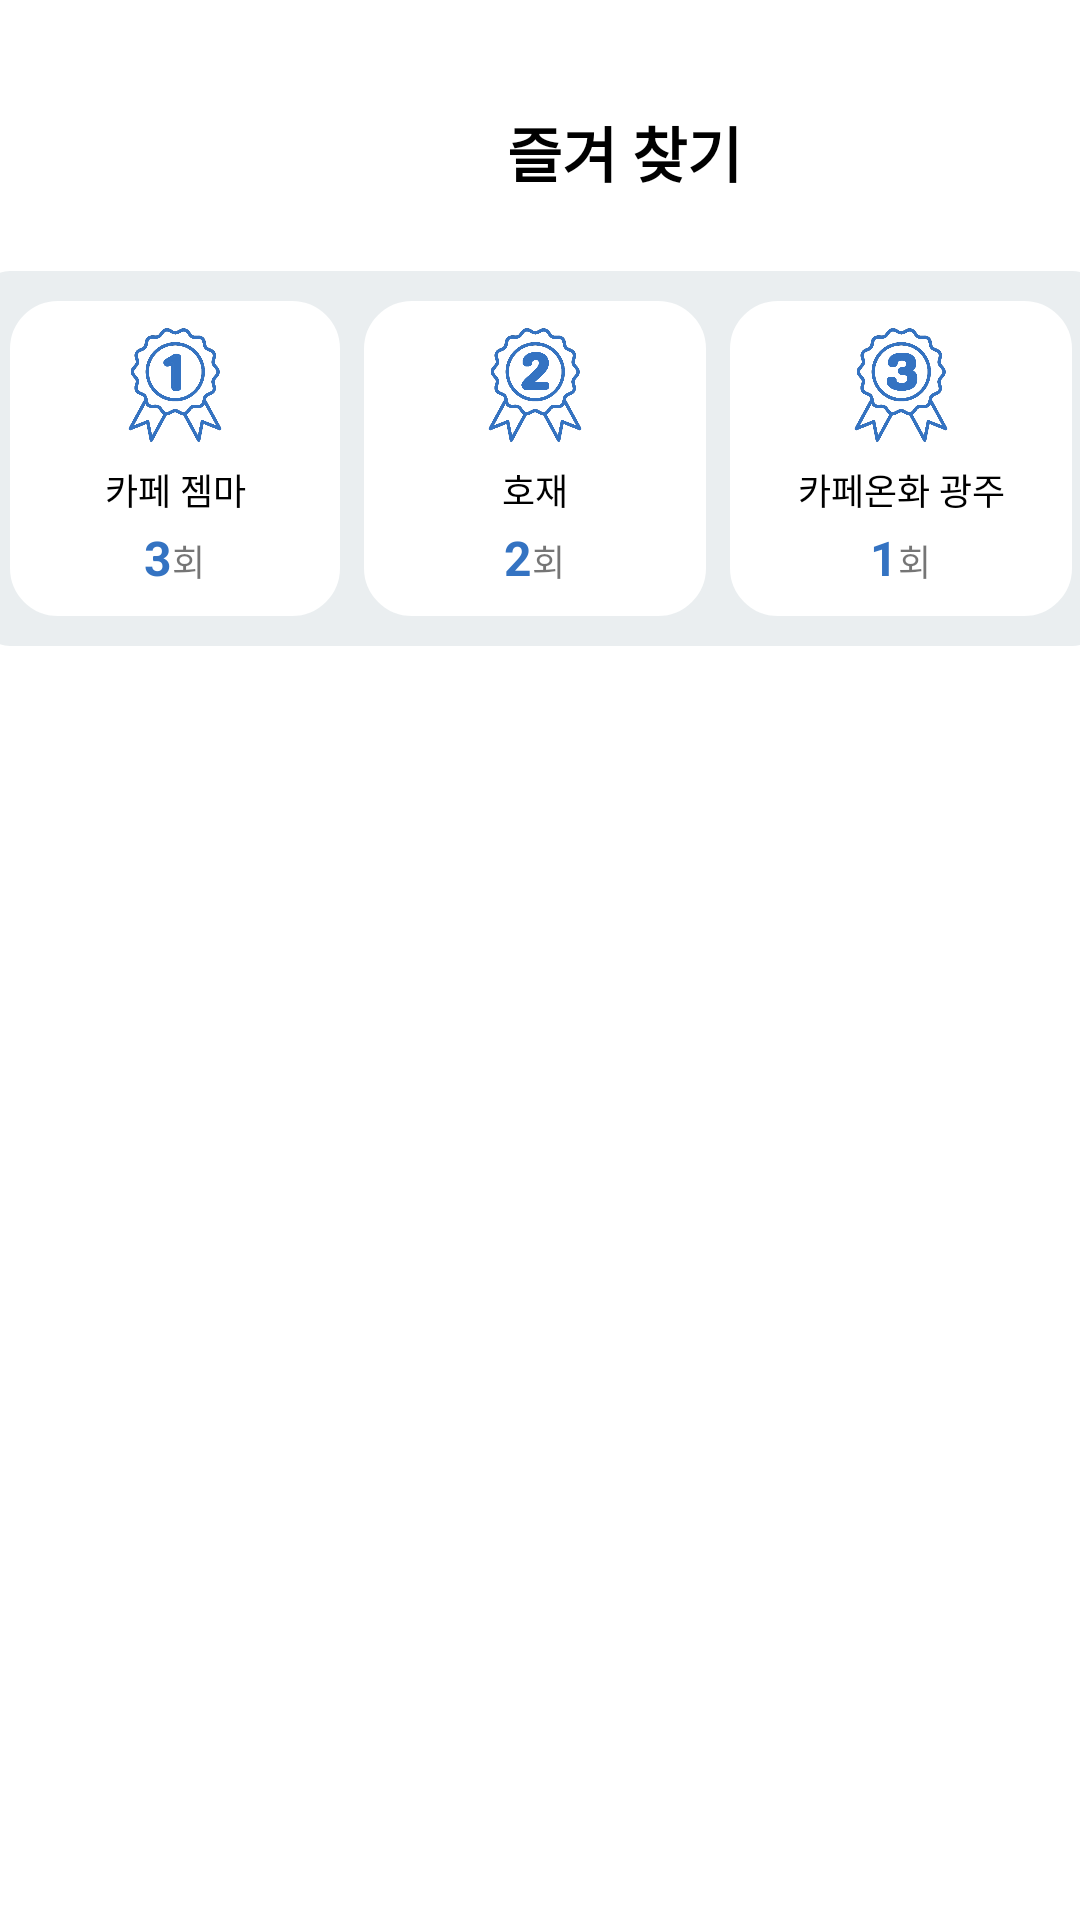

Icon click points for this 1080px x 1920px phone screenshot, format [x,y]:
firstplace: [175,385]
secondplace: [535,385]
thirdplace: [901,385]
